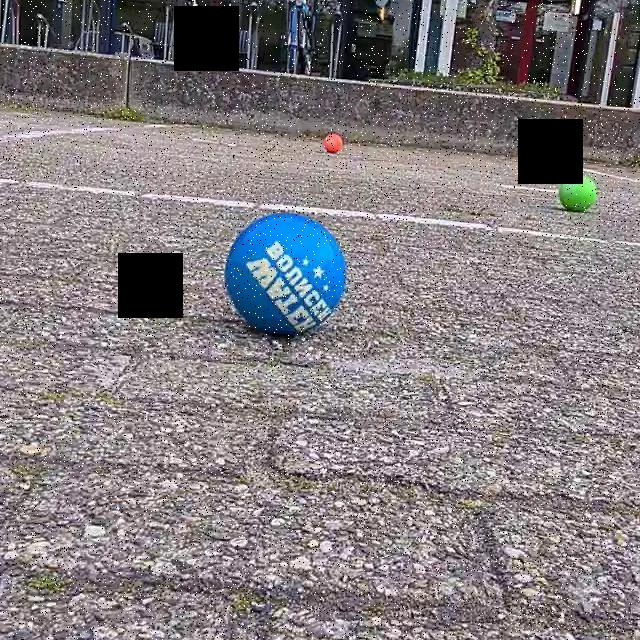ball: (556, 170, 600, 215), (320, 129, 347, 162)
